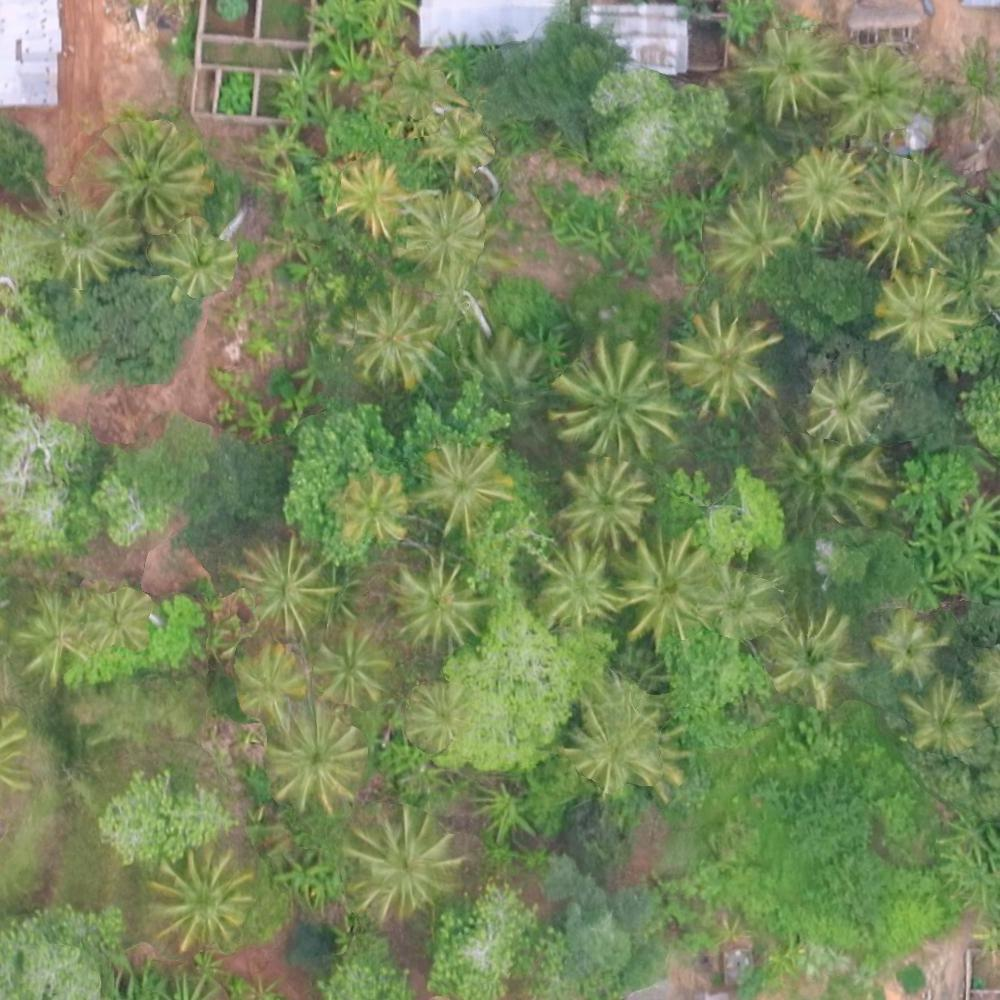Palm: (558, 346, 670, 457), (858, 162, 967, 271), (351, 810, 455, 922), (672, 310, 775, 416), (97, 129, 202, 225), (28, 180, 131, 277), (562, 697, 665, 793), (621, 542, 720, 634), (151, 856, 247, 949), (233, 542, 331, 633), (273, 719, 364, 808), (557, 461, 649, 547), (834, 46, 922, 134), (419, 446, 510, 531), (769, 614, 856, 702), (877, 274, 971, 354), (346, 295, 433, 381), (537, 544, 625, 628), (391, 191, 479, 274), (391, 568, 479, 645), (749, 30, 833, 109), (12, 593, 90, 677), (789, 151, 868, 232), (808, 365, 891, 440), (147, 228, 233, 300), (230, 646, 310, 721), (310, 634, 395, 702), (713, 198, 789, 271), (331, 165, 408, 235), (904, 686, 980, 756), (707, 564, 777, 638), (335, 476, 405, 549), (878, 609, 949, 680), (399, 688, 477, 747), (81, 586, 147, 649)
